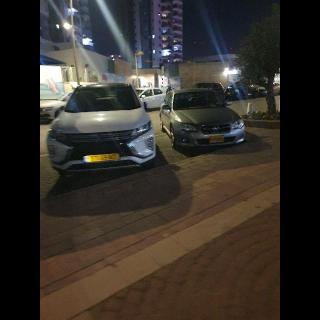LicensePlate: (88, 154, 119, 162), (210, 136, 224, 141)
